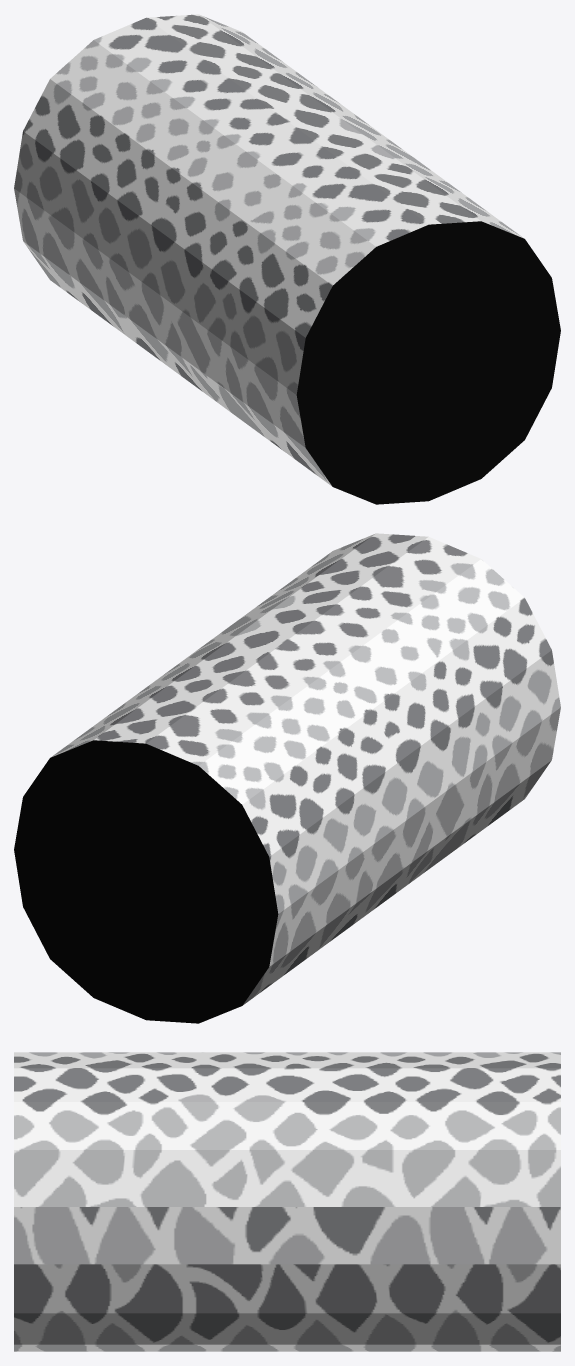
File: snek_body_texture.glb
The picture shows the model from 3 angles, top to bottom: view 1: azimuth 30°, elevation 25°; view 2: azimuth 150°, elevation 25°; view 3: azimuth 270°, elevation 25°; orthographic projection. The views are drawn at different scales.
Parts seen in each view (by area): view 1: Cube.002; view 2: Cube.002; view 3: Cube.002.
Part boxes in pixels (<box>): Cube.002: <box>14,14,560,504</box>; Cube.002: <box>14,533,560,1023</box>; Cube.002: <box>14,1052,560,1351</box>.
Bounding box in the file's own units: 4.67 × 4.67 × 8.65.
Materials: 1 (1 with a texture image).
